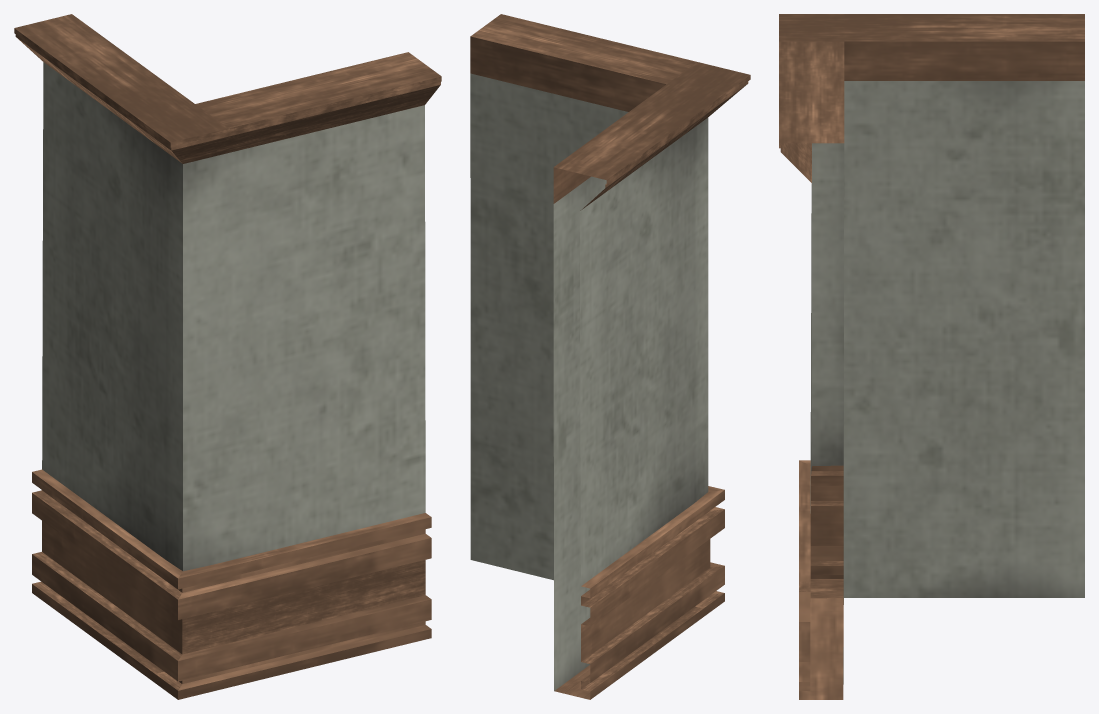
File: wall_corner_2.fbx
The picture shows the model from 3 angles, left to right: view 1: azimuth 30°, elevation 25°; view 2: azimuth 150°, elevation 25°; view 3: azimuth 270°, elevation 25°; orthographic projection. The views are drawn at different scales.
Parts seen in each view (by area): view 1: wall_corner_2; view 2: wall_corner_2; view 3: wall_corner_2.
Part boxes in pixels (bbox=[...]): wall_corner_2: bbox=[14, 14, 441, 699]; wall_corner_2: bbox=[470, 14, 750, 699]; wall_corner_2: bbox=[779, 14, 1084, 699].
Bounding box in the file's own units: 141 × 282 × 141.
